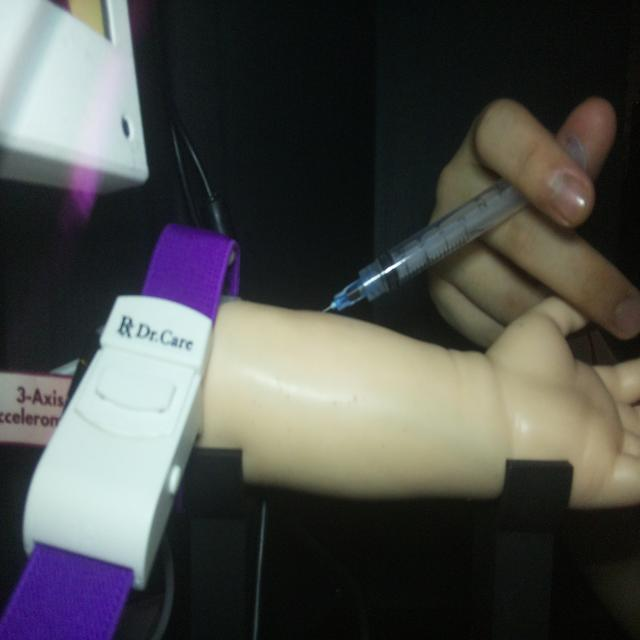24 degrees: (323, 129, 589, 314)
